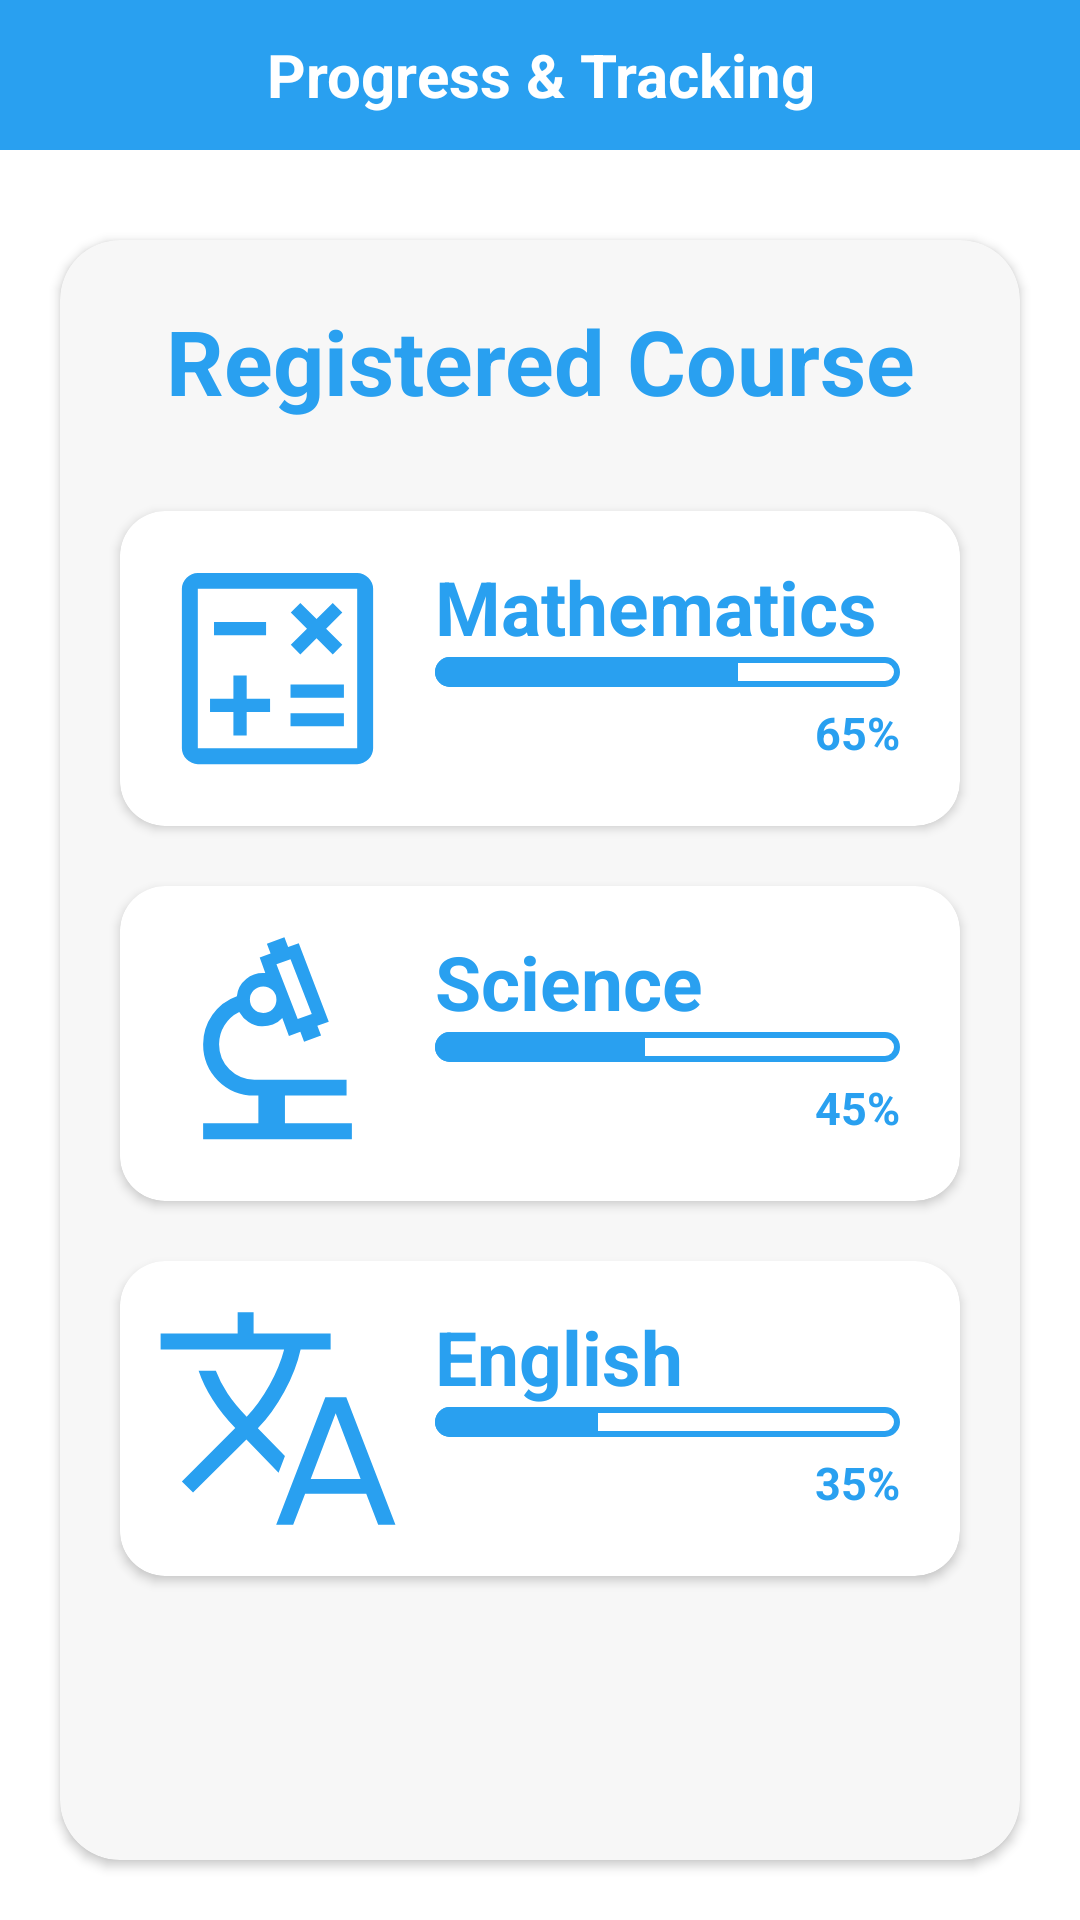

Named icons in this screenshot (1080 x 1920) and their bounding boxes, (x1, y1, x2, y2):
maths: (181, 573, 374, 765)
